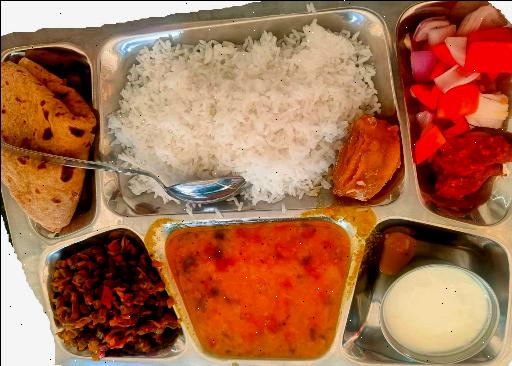Curd: (368, 266, 504, 366)
Dal: (178, 229, 346, 356)
Pickle: (420, 134, 512, 212)
Rice: (117, 25, 371, 203)
Roti: (0, 34, 91, 229)
Salad: (414, 7, 512, 121)
Sweet: (319, 116, 405, 202)
Vegetable: (48, 238, 168, 354)
